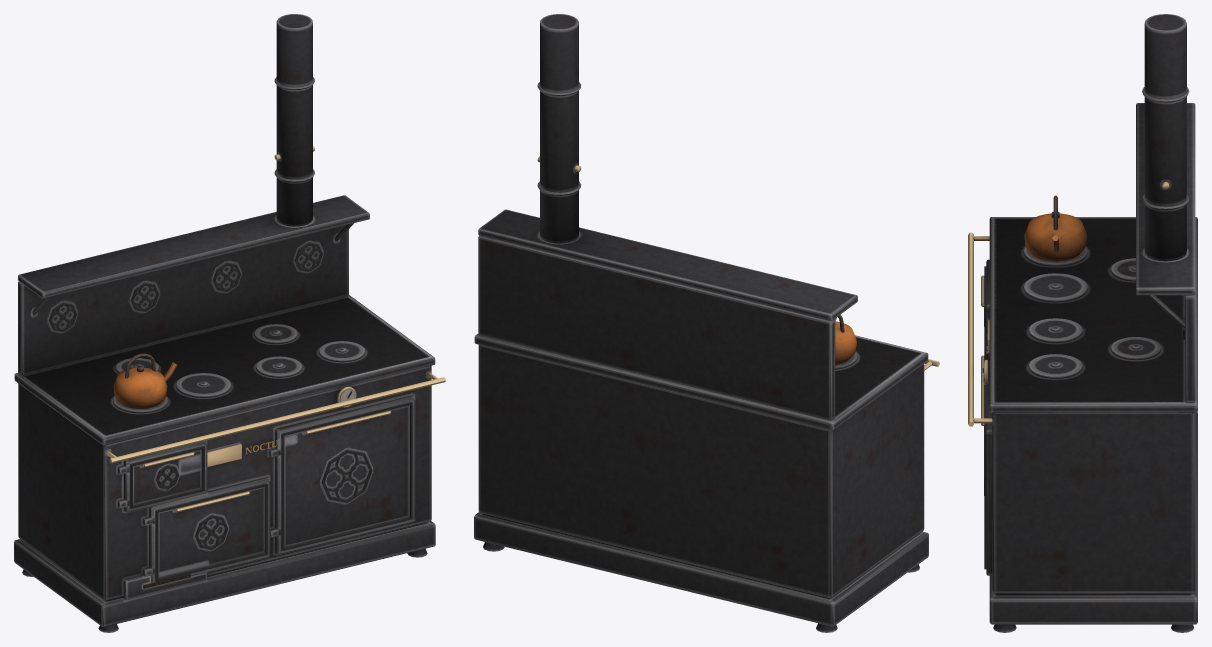
File: CastIronRange.fbx
The picture shows the model from 3 angles, left to right: view 1: azimuth 30°, elevation 25°; view 2: azimuth 150°, elevation 25°; view 3: azimuth 270°, elevation 25°; orthographic projection. The views are drawn at different scales.
Parts seen in each view (by area): view 1: CastIronRange; view 2: CastIronRange; view 3: CastIronRange.
Boxes of the visible parts, box(x1,y1,x2,y2) form: CastIronRange: box(14, 14, 445, 632); CastIronRange: box(474, 14, 939, 632); CastIronRange: box(968, 14, 1197, 632).
Bounding box in the file's own units: 530 × 750 × 272.
